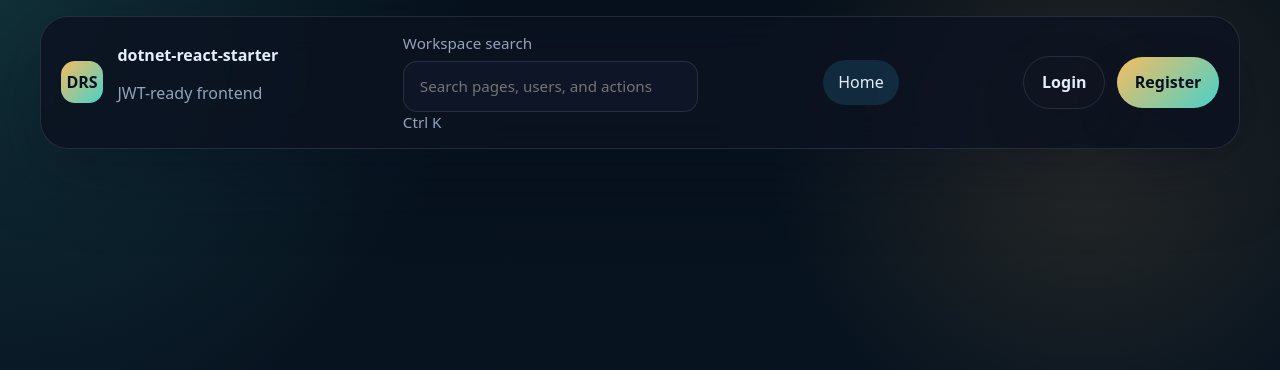
Test: Navbar › shows quick search suggestions when enabled
Type "register" into the search field labelled "Workspace search Ctrl K". click: (551, 86)
box: [403,61,698,112]
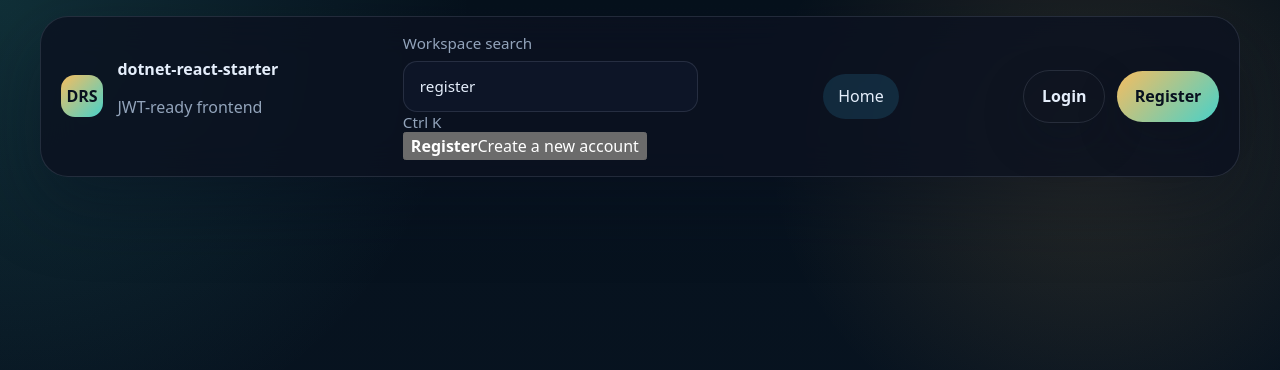
Check: the button "Register" is shown, box [403,132,647,160]
